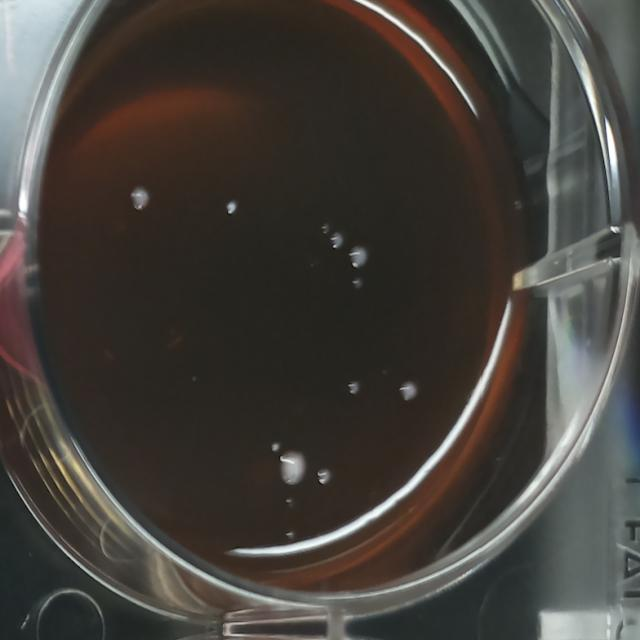Bacillus: (277, 446, 310, 489)
Staphylococcus: (225, 198, 239, 218), (269, 438, 281, 456)
